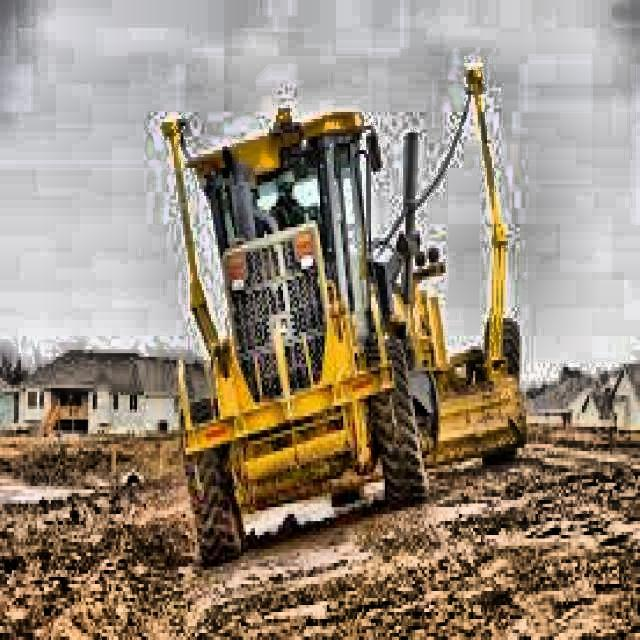bull_dozer/loader/grader: (158, 62, 532, 570)
person: (270, 170, 308, 213)
